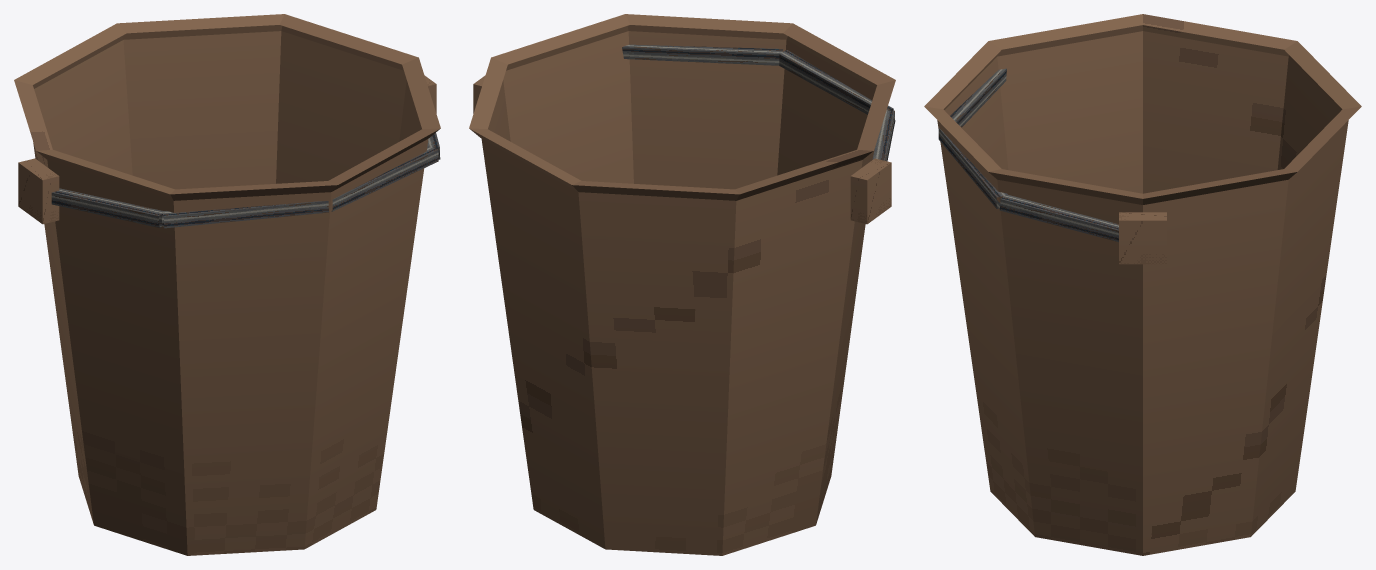
File: prop_bucket-2.glb
3 renders of one model, left to right at view 1: azimuth 30°, elevation 25°; view 2: azimuth 150°, elevation 25°; view 3: azimuth 270°, elevation 25°, orthographic.
Parts seen in each view (by area): view 1: prop_bucket-2; view 2: prop_bucket-2; view 3: prop_bucket-2.
Part boxes in pixels (<box>): prop_bucket-2: <box>14,14,440,555</box>; prop_bucket-2: <box>469,14,895,555</box>; prop_bucket-2: <box>924,14,1361,555</box>.
Bounding box in the file's own units: 0.2805 × 0.2645 × 0.2725.
Materials: 2 (2 with a texture image).
